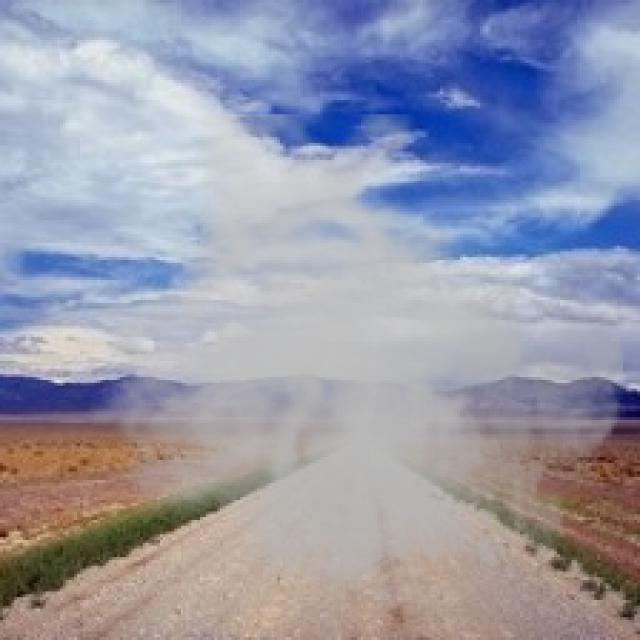smoke: (85, 114, 626, 637)
